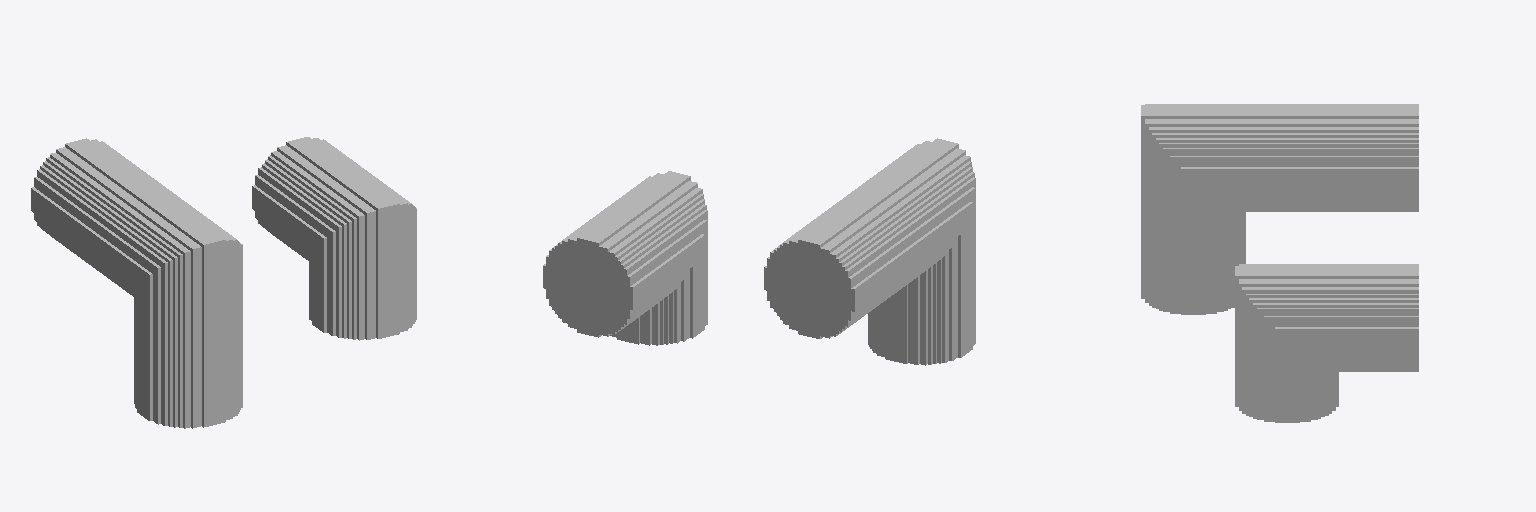
The model's file is Dutos de ar.obj.
3 renders of one model, left to right at view 1: azimuth 30°, elevation 25°; view 2: azimuth 150°, elevation 25°; view 3: azimuth 270°, elevation 25°, orthographic.
Parts seen in each view (by area): view 1: object 1; view 2: object 1; view 3: object 1.
Boxes of the visible parts, x1=… form: object 1: x1=31, y1=137, x2=416, y2=428; object 1: x1=543, y1=138, x2=975, y2=365; object 1: x1=1141, y1=104, x2=1418, y2=422.
Bounding box in the file's own units: 10 × 5.6 × 7.7.